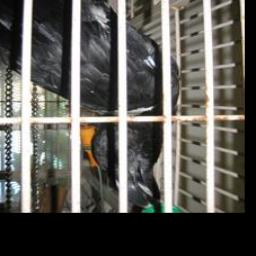Crow: (0, 0, 179, 209)
